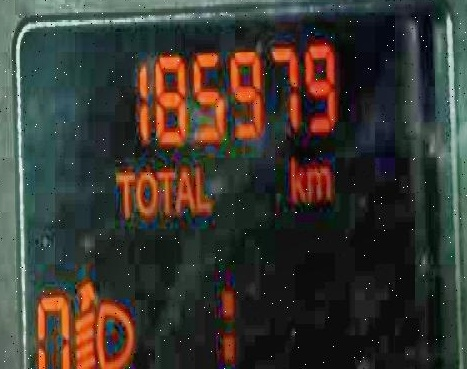0: (32, 288, 71, 366)
1: (133, 55, 152, 144)
5: (191, 50, 223, 144)
7: (269, 40, 299, 129)
8: (153, 51, 187, 142)
9: (228, 44, 263, 142), (305, 39, 336, 133)
X: (216, 277, 242, 364), (136, 166, 156, 215), (113, 166, 132, 217), (306, 162, 330, 200), (192, 164, 209, 213), (156, 166, 173, 213), (289, 153, 305, 202), (176, 166, 192, 213)
